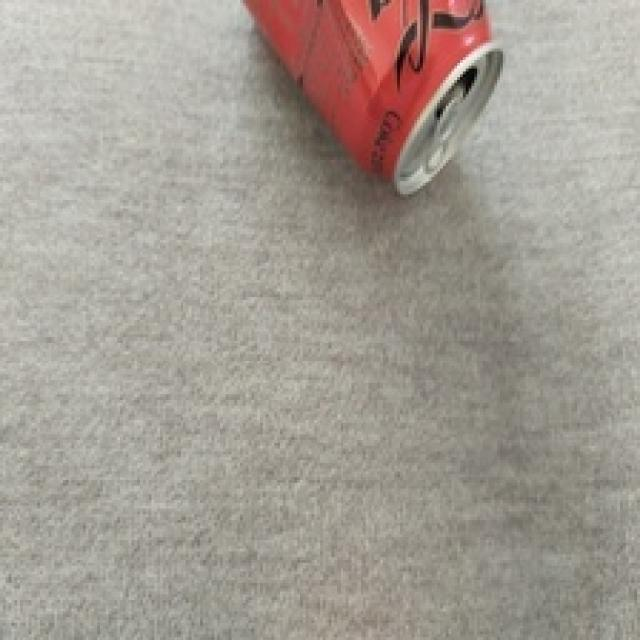recyclable: (238, 0, 511, 199)
